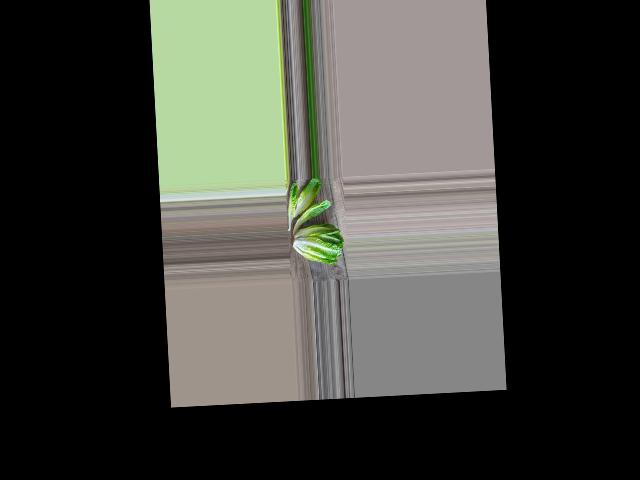lettuce: (292, 220, 344, 267)
